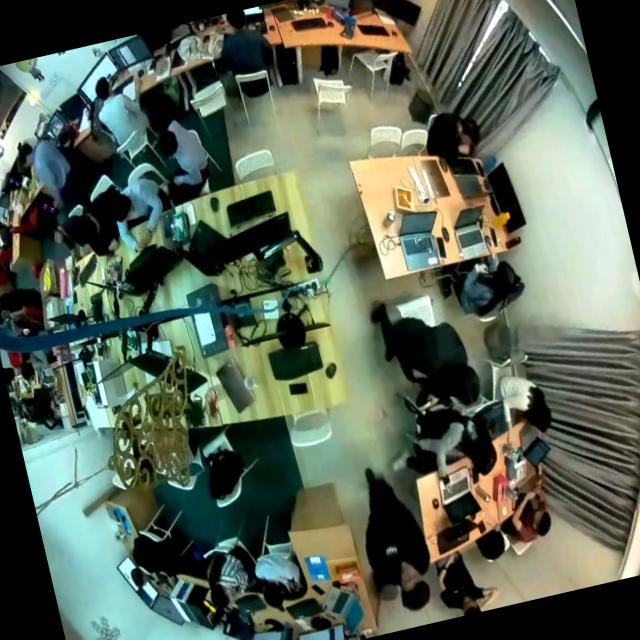employee_tag: (384, 544, 398, 556)
